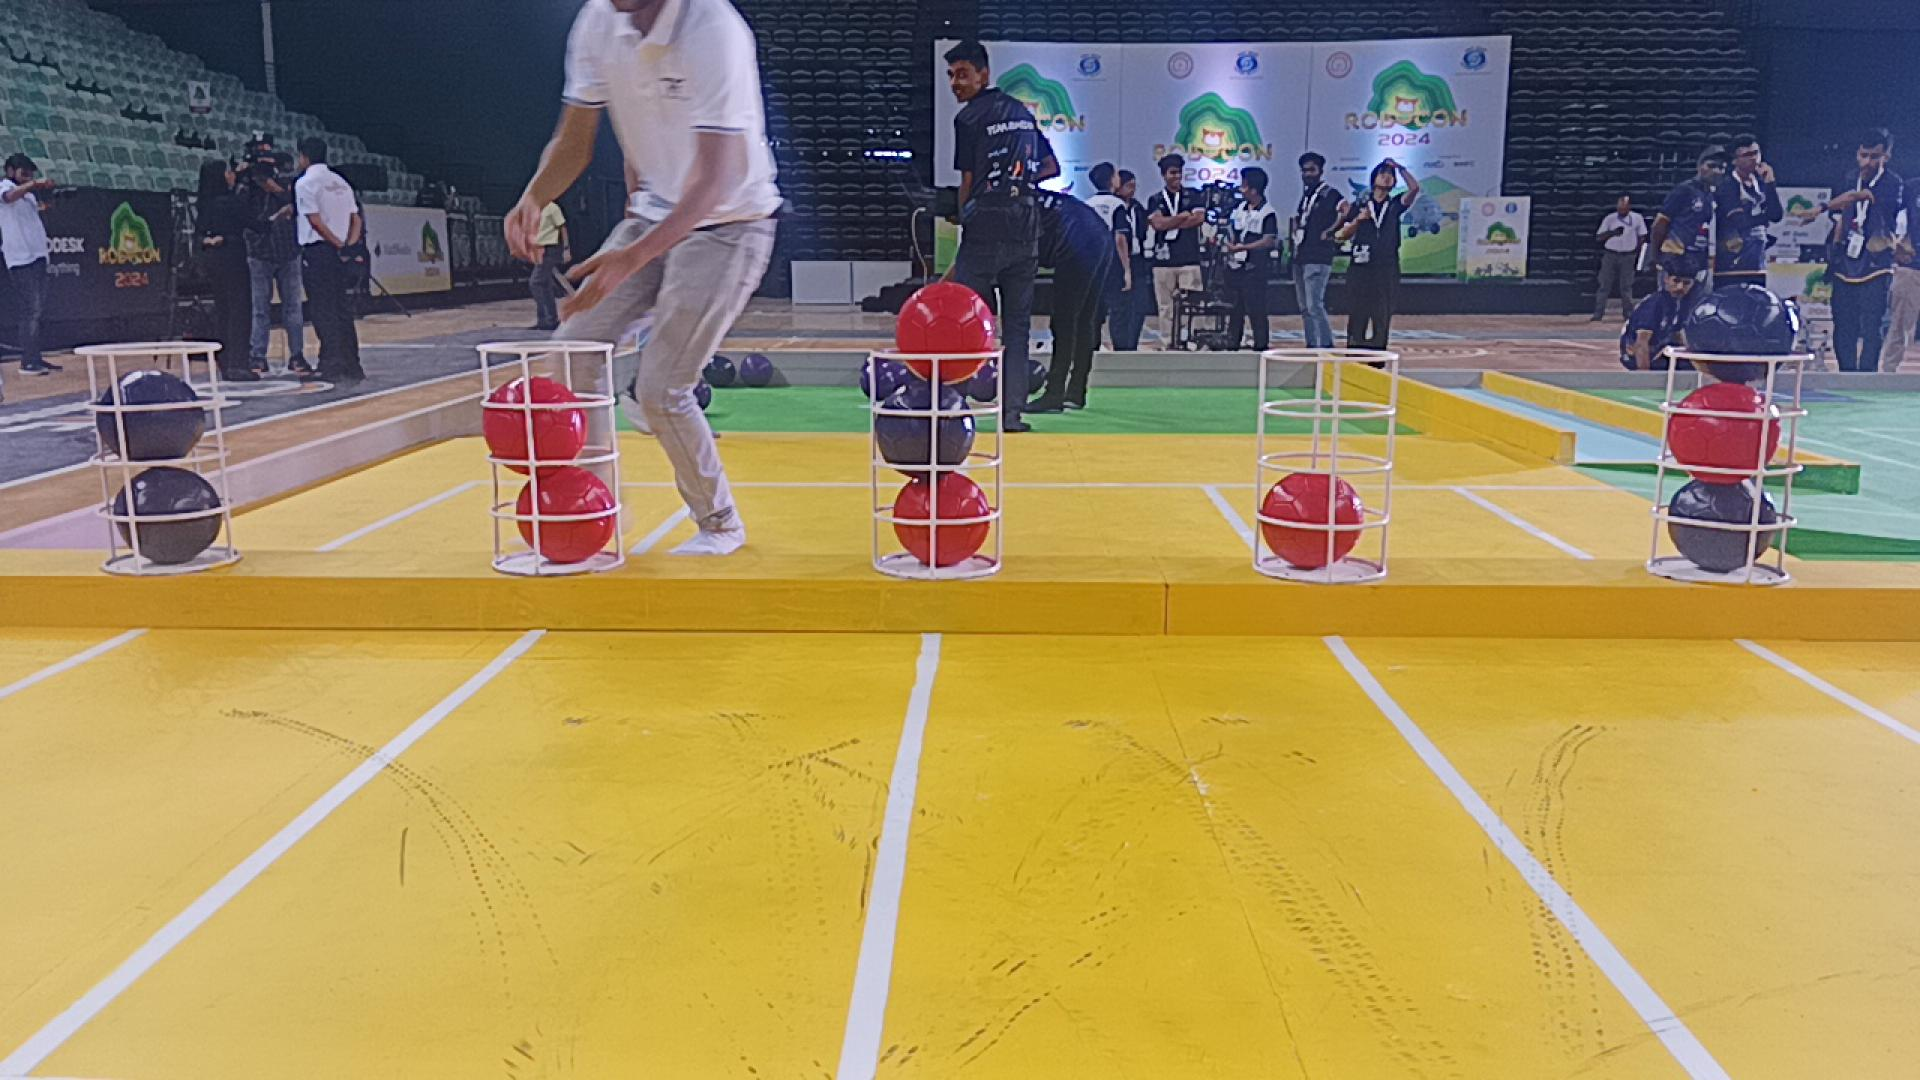dhoka: (1669, 479, 1778, 572), (112, 471, 222, 562), (98, 372, 206, 462), (1689, 285, 1791, 378), (876, 378, 976, 472)
laale: (1668, 381, 1778, 487), (1259, 471, 1364, 570), (484, 375, 585, 475), (517, 468, 618, 566), (895, 284, 993, 384), (890, 472, 988, 566)
